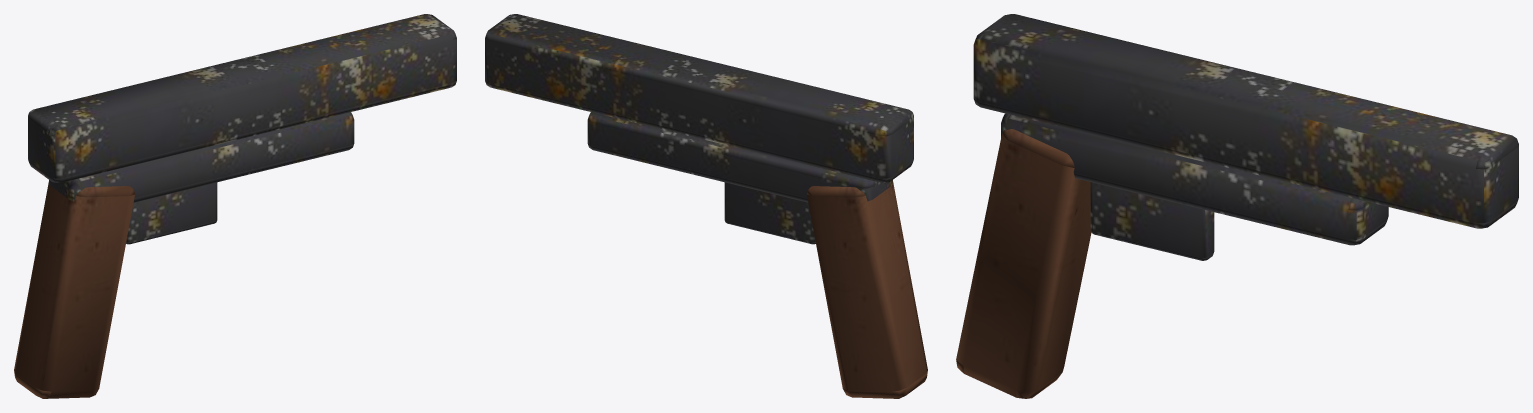
File: held_weapon_aps.glb
3 renders of one model, left to right at view 1: azimuth 30°, elevation 25°; view 2: azimuth 150°, elevation 25°; view 3: azimuth 330°, elevation 25°, orthographic. The views are drawn at different scales.
Visible parts, largest first — view 1: box, box.002, box.001, box.003; view 2: box, box.002, box.001, box.003; view 3: box, box.002, box.001, box.003.
Part boxes in pixels (<box>): box: <box>28,14,456,182</box>; box.002: <box>14,180,134,398</box>; box.001: <box>49,112,354,202</box>; box.003: <box>126,182,217,244</box>; box: <box>485,14,913,182</box>; box.002: <box>807,180,927,398</box>; box.001: <box>587,112,892,202</box>; box.003: <box>724,182,815,244</box>; box: <box>973,14,1518,228</box>; box.002: <box>956,129,1091,398</box>; box.001: <box>1001,113,1388,245</box>; box.003: <box>1090,182,1214,260</box>.
Size of the model in its own units: 0.2278 by 0.1451 by 0.03.
Materials: 2 (2 with a texture image).
